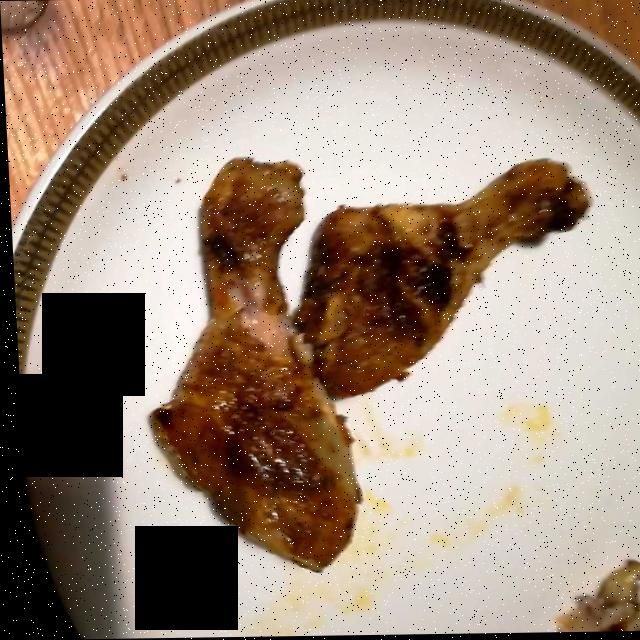chicken-leg: (172, 134, 588, 553)
